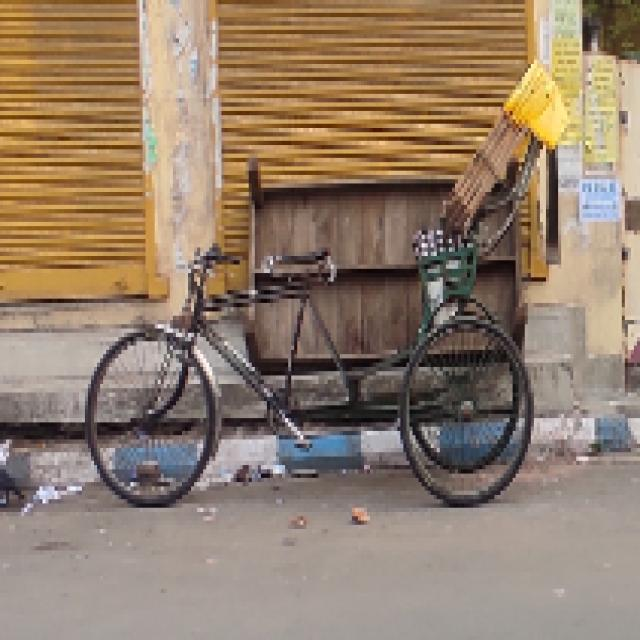rickshaw: (75, 56, 584, 522)
